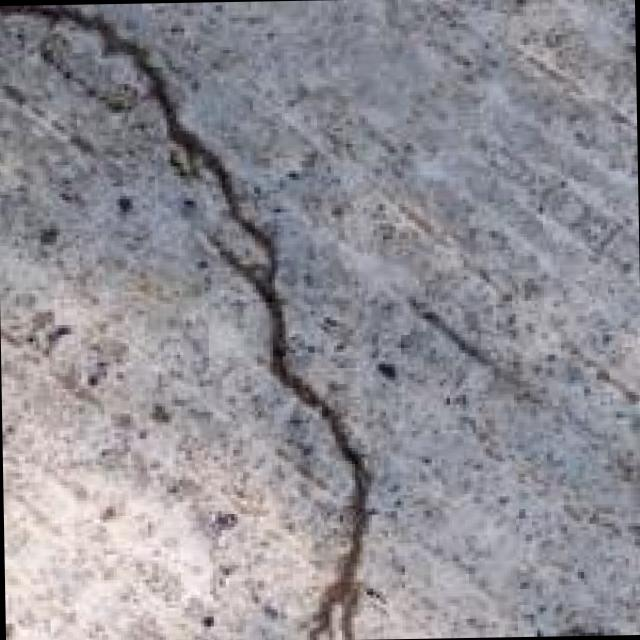crack: (13, 0, 386, 640)
